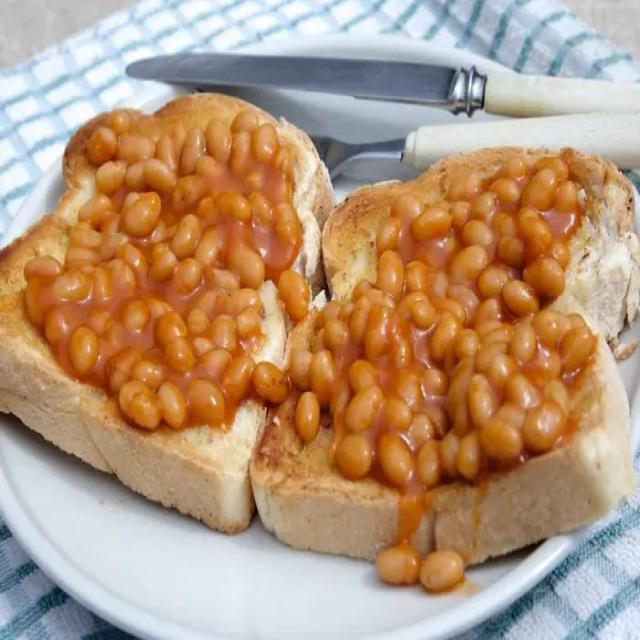beans: (523, 402, 565, 453), (119, 381, 161, 430), (378, 432, 413, 487), (419, 550, 463, 593), (480, 418, 522, 463), (376, 545, 420, 585), (121, 192, 160, 237), (518, 209, 553, 259), (221, 354, 255, 405), (523, 257, 565, 298), (335, 434, 373, 479), (345, 386, 383, 431), (188, 379, 224, 426), (278, 270, 310, 322), (230, 244, 265, 289), (363, 306, 392, 360), (560, 327, 595, 371), (309, 350, 336, 407), (252, 362, 287, 404), (107, 350, 141, 393), (429, 313, 459, 361), (523, 169, 557, 211), (69, 327, 99, 374), (469, 375, 496, 427), (449, 246, 488, 282), (171, 214, 201, 260), (376, 251, 404, 300), (158, 381, 187, 428), (411, 207, 451, 241), (502, 280, 539, 316), (505, 373, 540, 409), (171, 176, 205, 212), (205, 120, 232, 165), (457, 431, 481, 481), (295, 392, 319, 442), (118, 132, 155, 164), (78, 194, 112, 228), (180, 127, 204, 175), (155, 312, 187, 348), (87, 127, 117, 165), (532, 310, 562, 348), (54, 270, 90, 301), (165, 338, 196, 374), (417, 439, 440, 487), (208, 314, 237, 352), (486, 354, 517, 389), (510, 323, 537, 363), (195, 227, 223, 265), (478, 265, 510, 298), (407, 414, 436, 450), (395, 369, 421, 409), (252, 124, 278, 164), (218, 192, 252, 222), (96, 161, 126, 195), (121, 299, 150, 333), (174, 258, 202, 293), (150, 244, 177, 280), (348, 360, 377, 393), (229, 131, 251, 174), (289, 349, 312, 390), (439, 432, 459, 479), (44, 309, 70, 345), (201, 349, 232, 379), (131, 360, 162, 390), (448, 173, 481, 201), (384, 397, 412, 430), (544, 380, 570, 415), (476, 343, 507, 372), (376, 218, 400, 254), (391, 194, 421, 222), (409, 297, 436, 328), (24, 257, 62, 279), (247, 192, 273, 224), (323, 320, 349, 352), (434, 298, 466, 324), (474, 298, 503, 326), (497, 238, 524, 268), (470, 192, 497, 222), (156, 133, 177, 171), (534, 157, 568, 180), (495, 402, 525, 428), (236, 307, 261, 338), (330, 380, 351, 416), (454, 329, 479, 359), (555, 181, 579, 212), (491, 179, 520, 204), (423, 369, 448, 396), (406, 261, 428, 291), (482, 324, 512, 345), (125, 161, 146, 191), (186, 309, 210, 335), (493, 212, 517, 237), (108, 110, 131, 135), (231, 110, 257, 132), (450, 202, 470, 230), (551, 240, 569, 269), (502, 158, 526, 178)
sliced bread: (0, 114, 265, 532), (411, 269, 639, 563), (251, 403, 399, 559), (255, 108, 332, 292), (576, 156, 635, 241), (327, 188, 381, 269), (143, 95, 249, 132)
